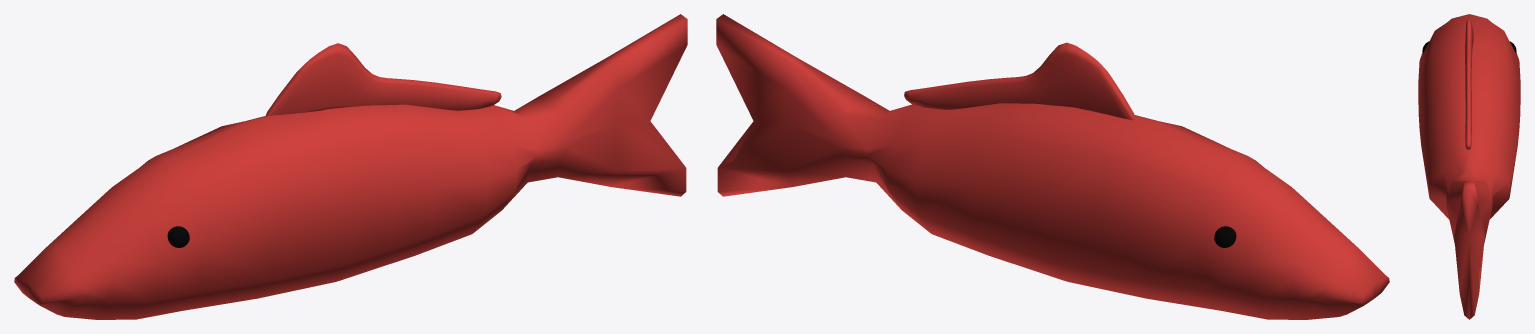
Rendered from Fish_PlasticRed.glb.
The picture shows the model from 3 angles, left to right: view 1: azimuth 30°, elevation 25°; view 2: azimuth 150°, elevation 25°; view 3: azimuth 270°, elevation 25°; orthographic projection. The views are drawn at different scales.
Parts seen in each view (by area): view 1: Cube, Plane.004; view 2: Cube, Plane.004; view 3: Cube, Plane.004.
Boxes of the visible parts, x1,y1,x2,y2 form: Cube: [14, 14, 687, 319]; Plane.004: [265, 43, 501, 116]; Cube: [716, 14, 1389, 319]; Plane.004: [904, 42, 1135, 120]; Cube: [1418, 14, 1520, 319]; Plane.004: [1465, 17, 1473, 149].
Size of the model in its own units: 6.9 by 2.39 by 1.26.
